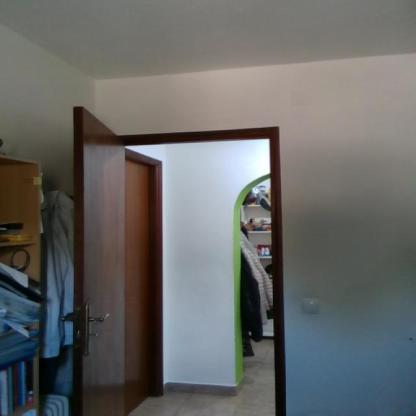door: (67, 103, 294, 415)
